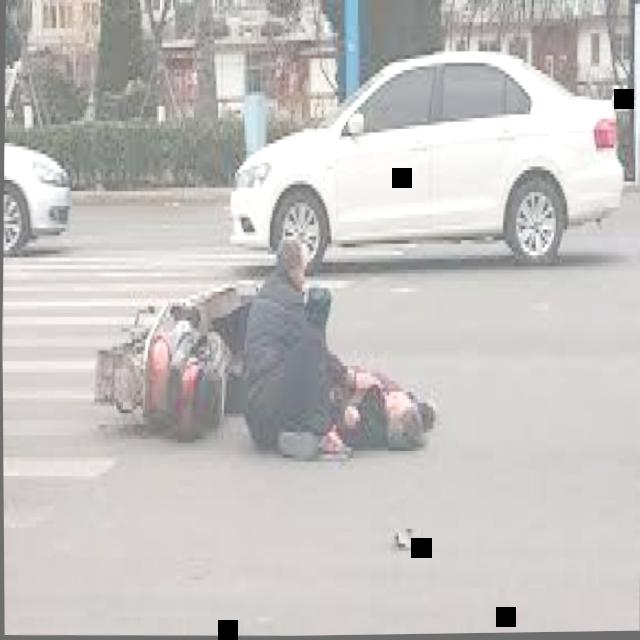Fall-Detected: (316, 324, 438, 453)
